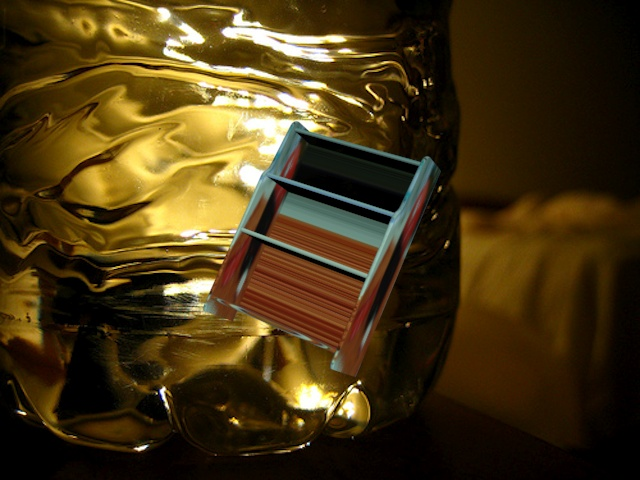bookcase: (193, 112, 449, 385)
